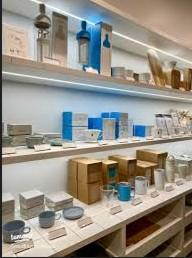bottle: (78, 19, 92, 41)
